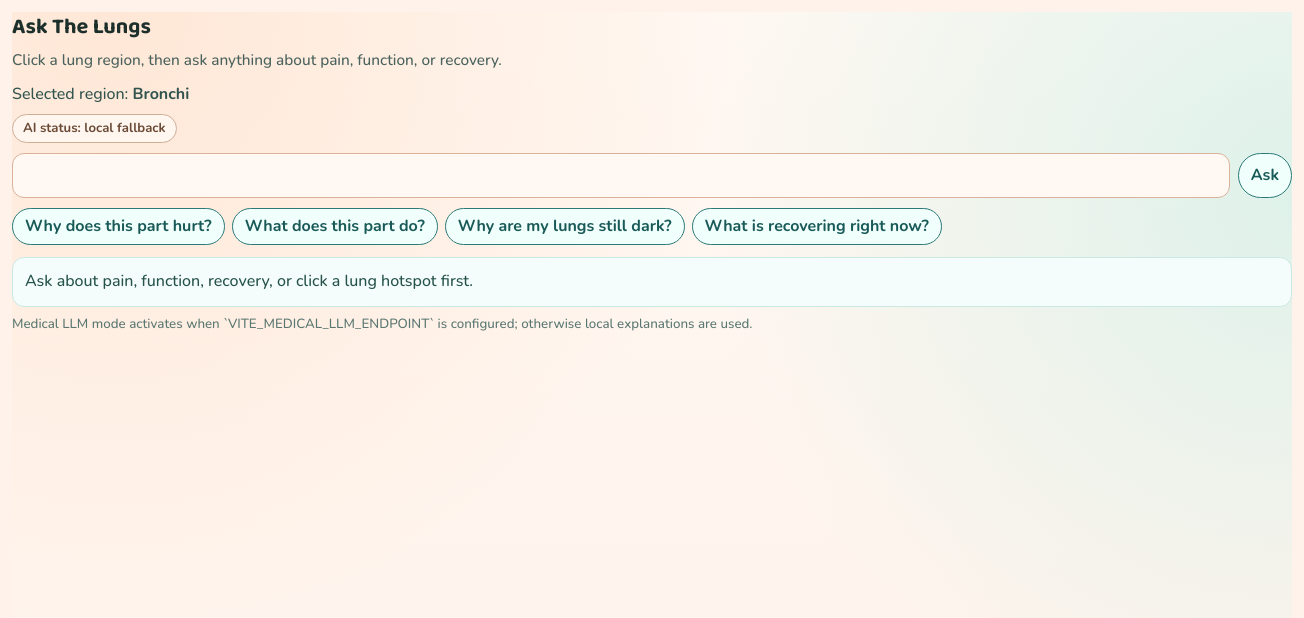
Test: LungCoach › falls back to local explanation when LLM is unavailable
The image size is (1304, 618).
Type "What does this part do?" into the field named "ask lungs a question".
click(621, 176); type("What does this part do?")  # box [12,153,1230,198]
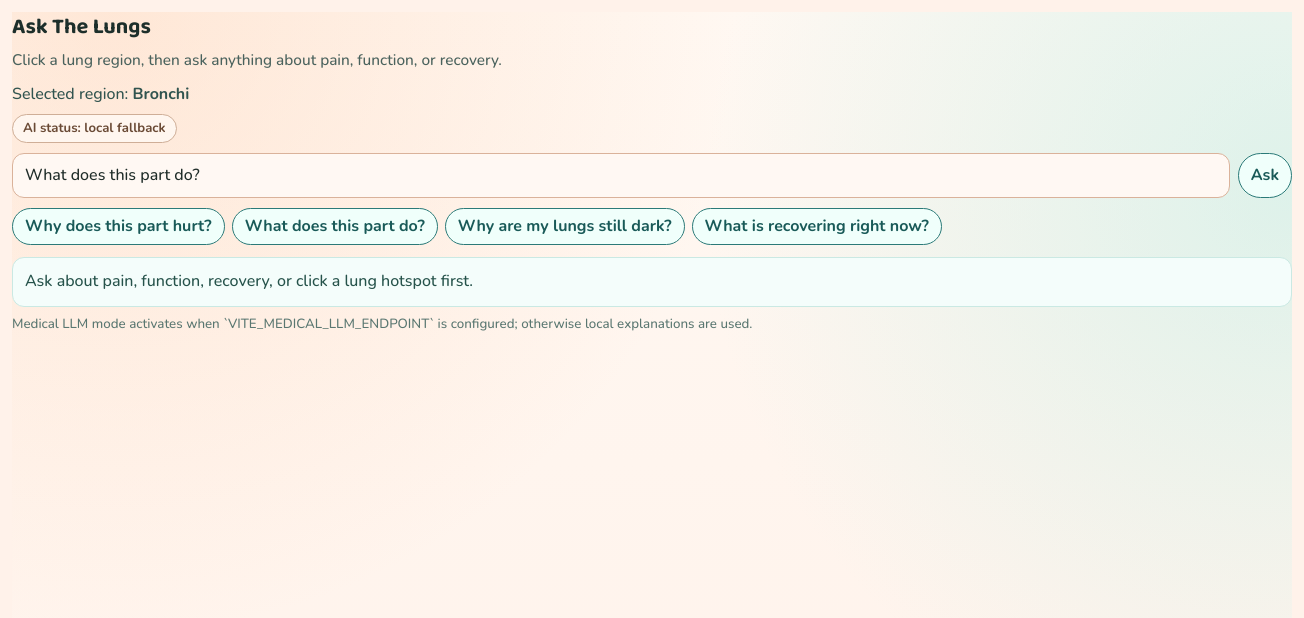
Click the button "Ask".
click(1265, 176)  # box [1238,153,1292,198]
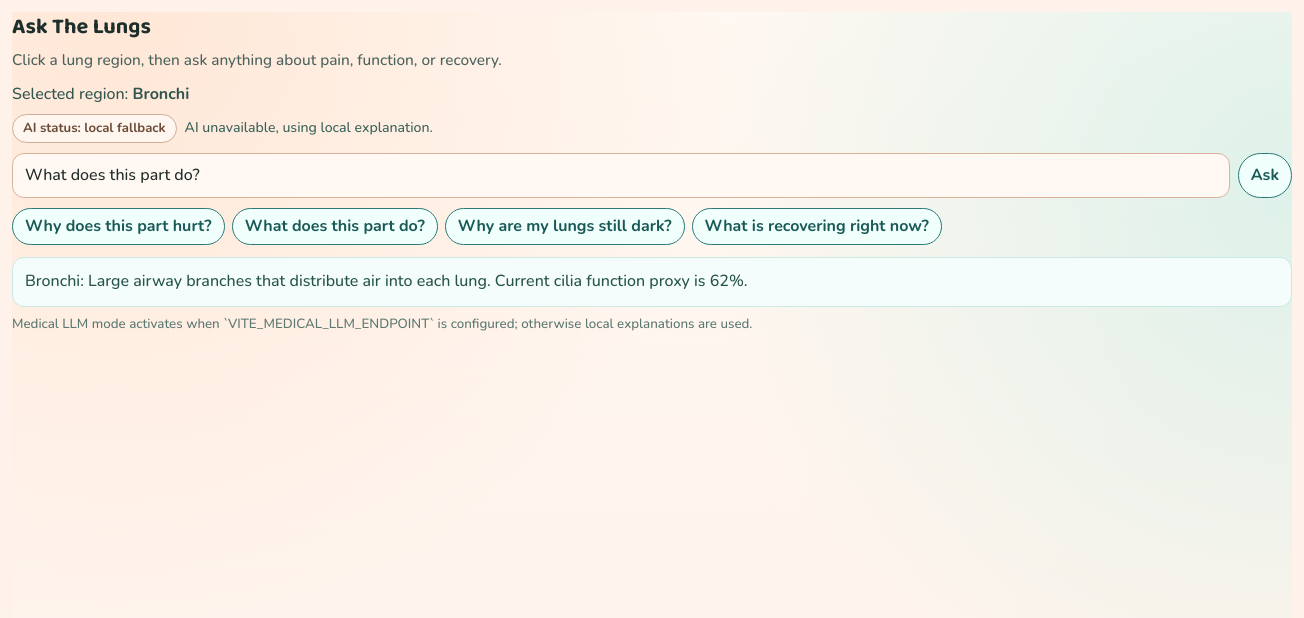
Expected: the text "AI status: local fallback" is shown, [12,114,177,143]
Expected: the text "AI unavailable, using local explanation." is shown, [185,118,433,139]
